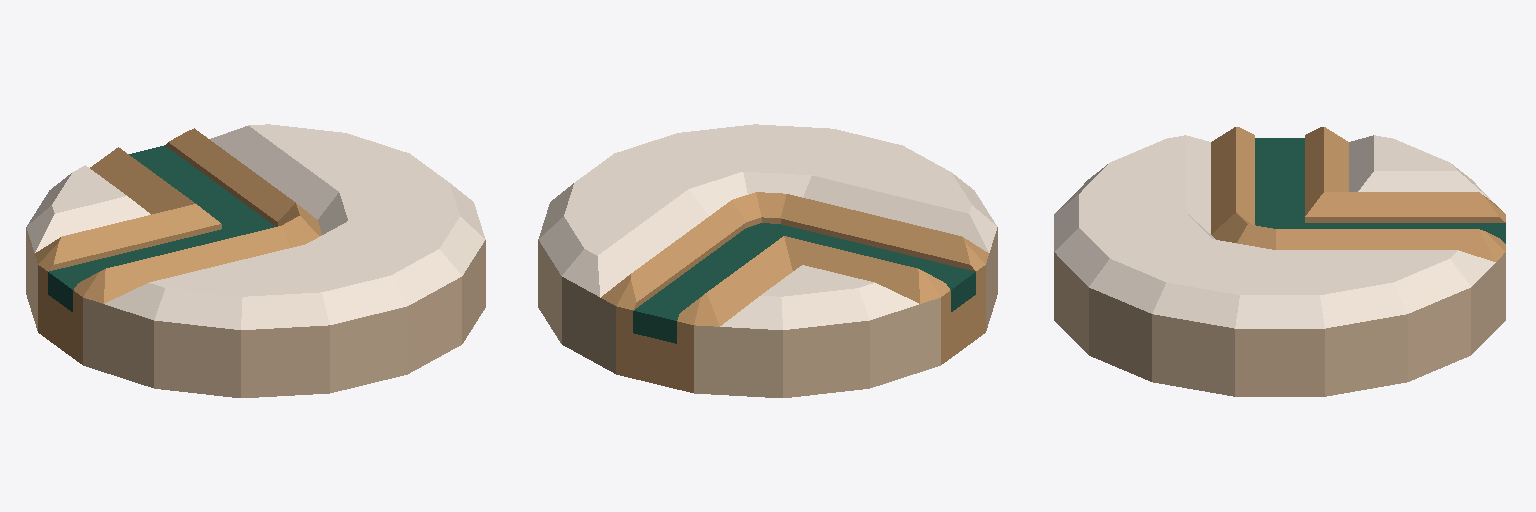
Rendered from Puzzle_Floor_Conduit_Rotating_Platform_Corner.obj.
3 renders of one model, left to right at view 1: azimuth 30°, elevation 25°; view 2: azimuth 150°, elevation 25°; view 3: azimuth 270°, elevation 25°, orthographic.
Visible parts, largest first — view 1: object2, object1; view 2: object2, object1; view 3: object2, object1.
Part boxes in pixels (bbox=[...]): object2: bbox=[26, 124, 485, 397]; object1: bbox=[48, 145, 275, 311]; object2: bbox=[538, 124, 997, 397]; object1: bbox=[633, 223, 975, 343]; object2: bbox=[1054, 127, 1505, 396]; object1: bbox=[1255, 138, 1505, 243].
Bounding box in the file's own units: 0.9 × 0.2 × 0.9.